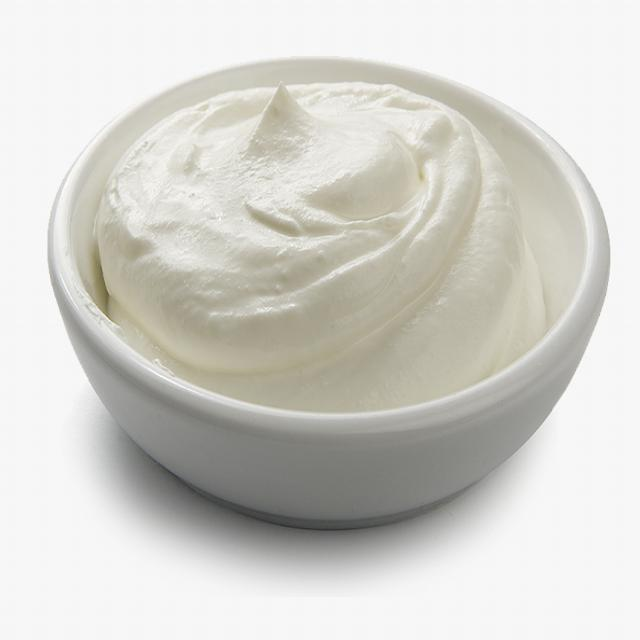yogurt: (70, 67, 558, 428)
